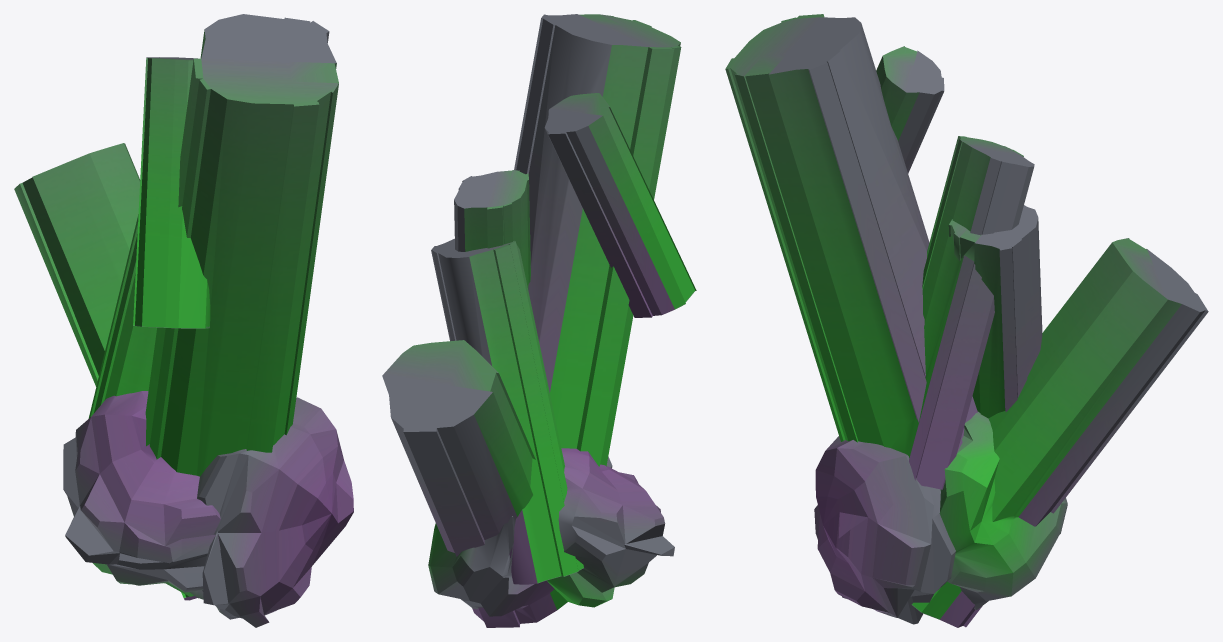
File: Crystal_Tourmaline.fbx
The picture shows the model from 3 angles, left to right: view 1: azimuth 30°, elevation 25°; view 2: azimuth 150°, elevation 25°; view 3: azimuth 270°, elevation 25°; orthographic projection. The views are drawn at different scales.
Parts seen in each view (by area): view 1: Crystal_Tourmaline10; view 2: Crystal_Tourmaline10; view 3: Crystal_Tourmaline10.
Boxes of the visible parts, x1,y1,x2,y2 form: Crystal_Tourmaline10: (14,14,353,627); Crystal_Tourmaline10: (382,14,696,627); Crystal_Tourmaline10: (725,14,1208,627).
Bounding box in the file's own units: 0.3697 × 0.8539 × 0.6475.
1 material, 1 textured.
